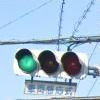traffic lights: (13, 48, 88, 82)
